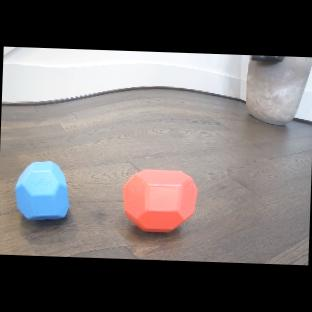V5_BLUE: (13, 159, 72, 222)
V5_RED: (120, 167, 201, 234)
